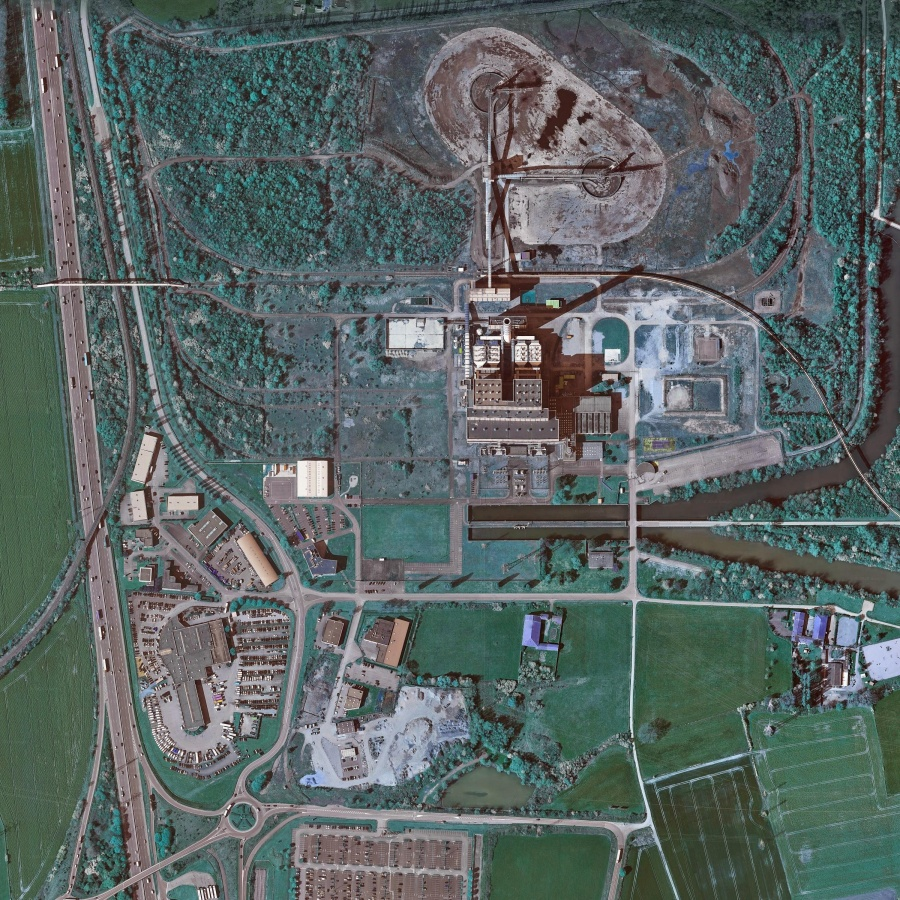PowerPlant: (392, 27, 665, 453)
